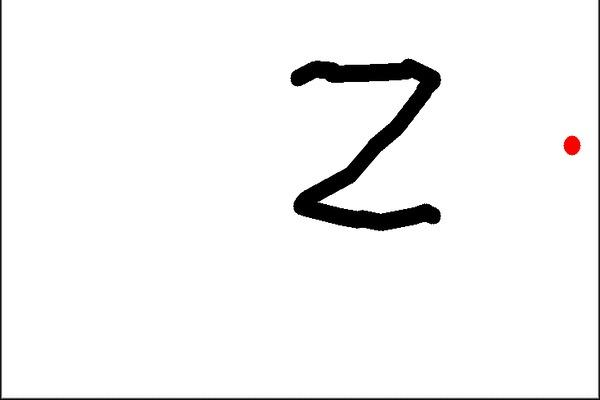Z: (279, 51, 451, 235)
